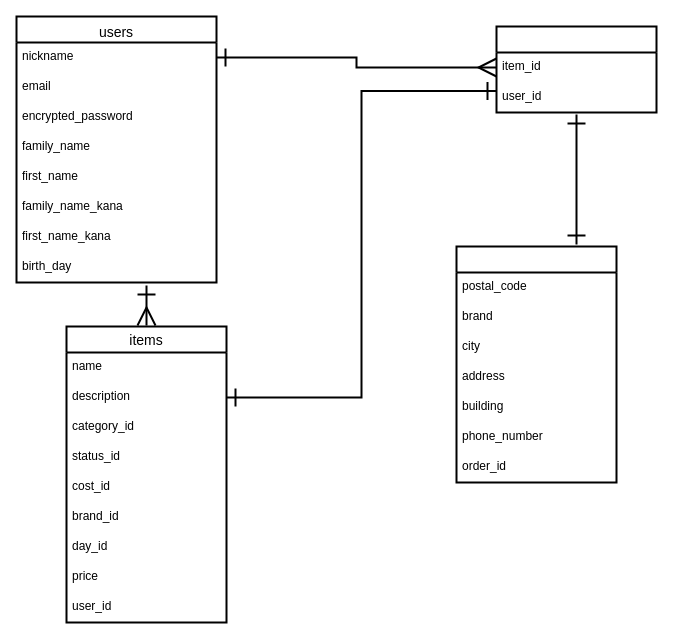
The diagram is 673 pixels wide and 639 high, and some of its shapes have lost their labels. The shapes that lost their labels are listed below. From the top down, each one's box as (x1, y1, x2, y2) in pixels, then its label:
(495, 25, 657, 113): orders
(455, 245, 617, 483): addresses
